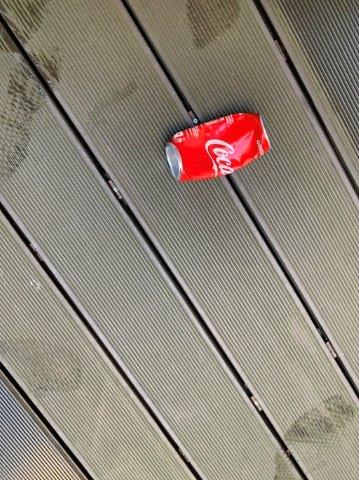kaleng: (166, 114, 270, 180)
